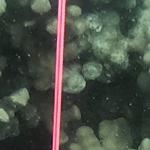dead: (68, 3, 148, 142)
